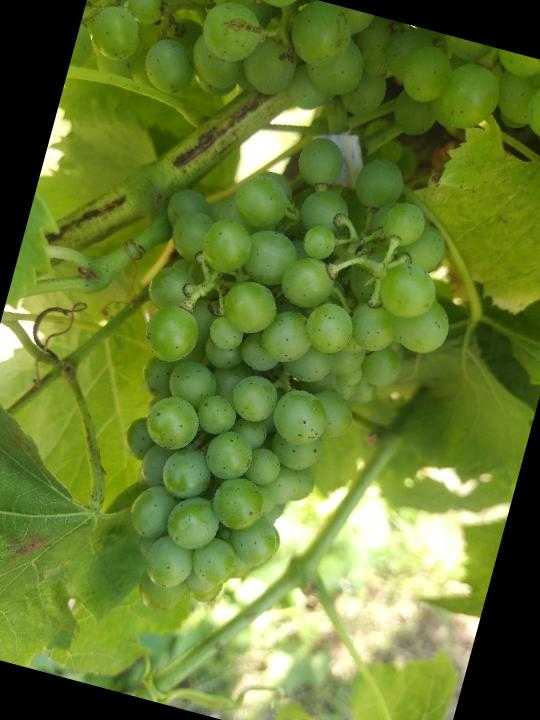grape: (66, 99, 494, 669)
